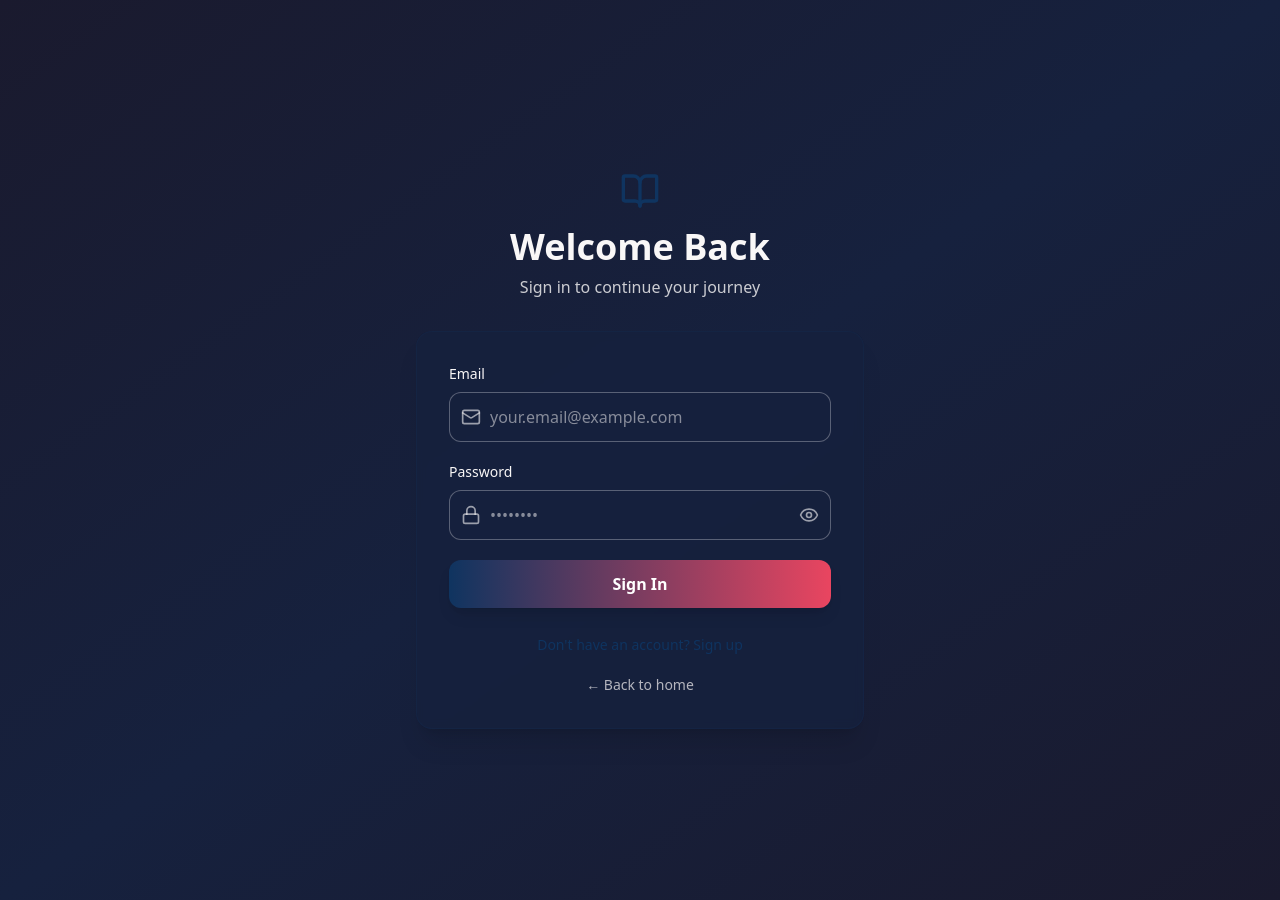
Auth Page Extended Tests › should toggle between login and register modes
The width and height of the screenshot is (1280, 900).
Expected: the heading "Welcome Back" is shown, [510,222,770,271]
Click the button "Don't have an account? Sign up".
click(640, 645)  # box [537,635,743,655]
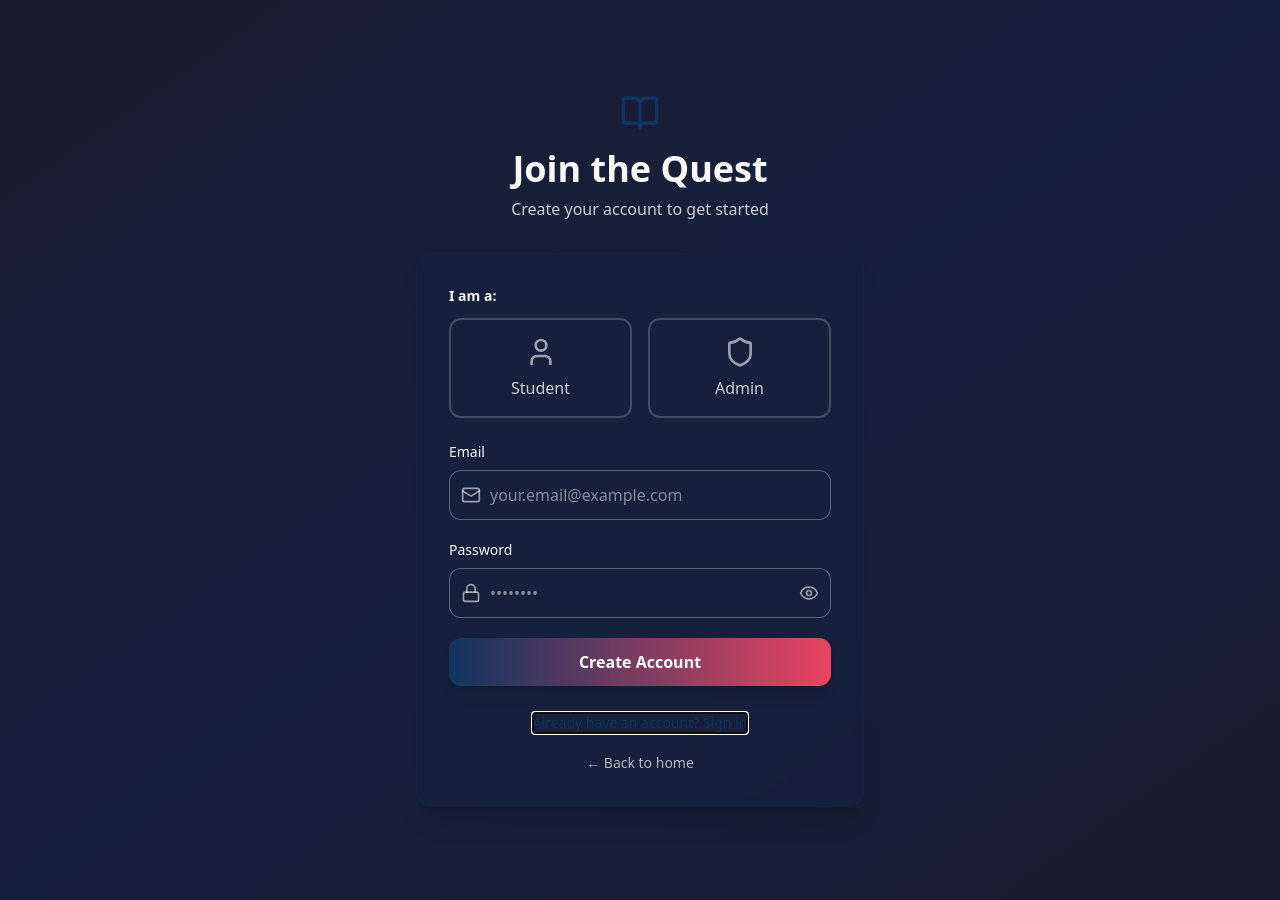
Result: the heading "Join the Quest" is shown at [512,144,768,193]
Click the button "Already have an account? Sign in".
click(640, 723)  # box [533,713,747,733]
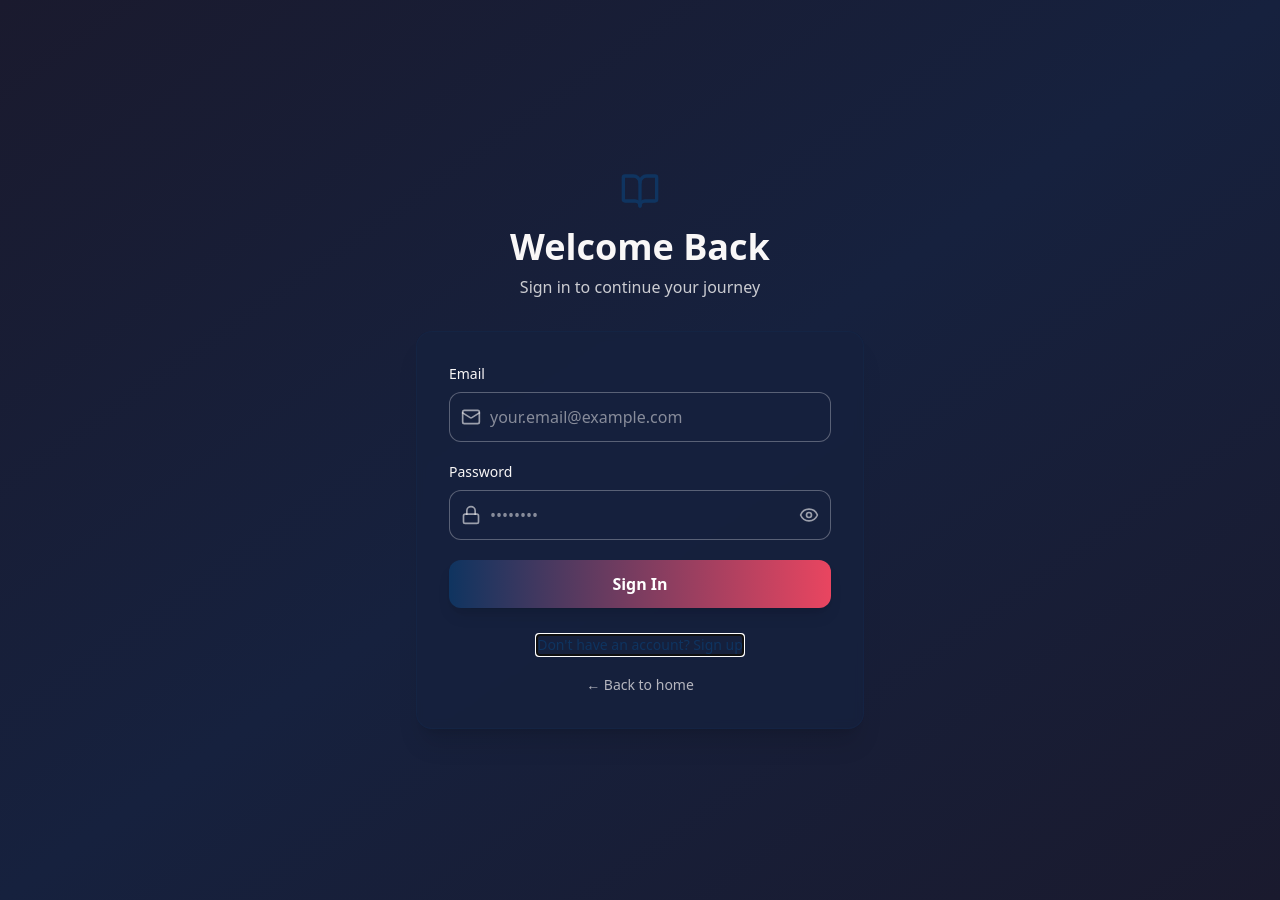
Result: the heading "Welcome Back" is shown at [510,222,770,271]
